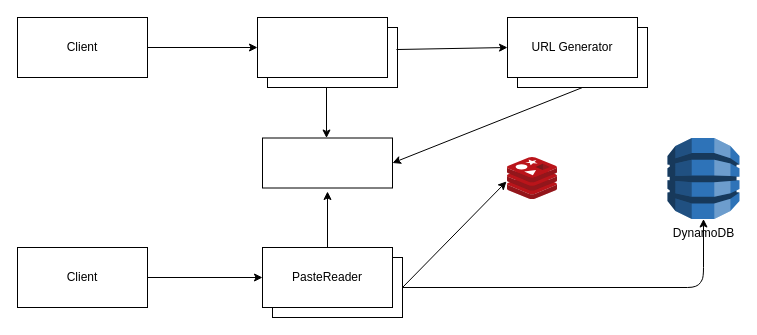
This 757x335 diagram has some shape labels left out. The box of each missing label's shape, as (x1, y1, x2, y2) in pixels:
Eureka Naming Server: (262, 137, 392, 188)
PasteWriter: (256, 16, 388, 78)
Redis: (507, 157, 557, 199)
